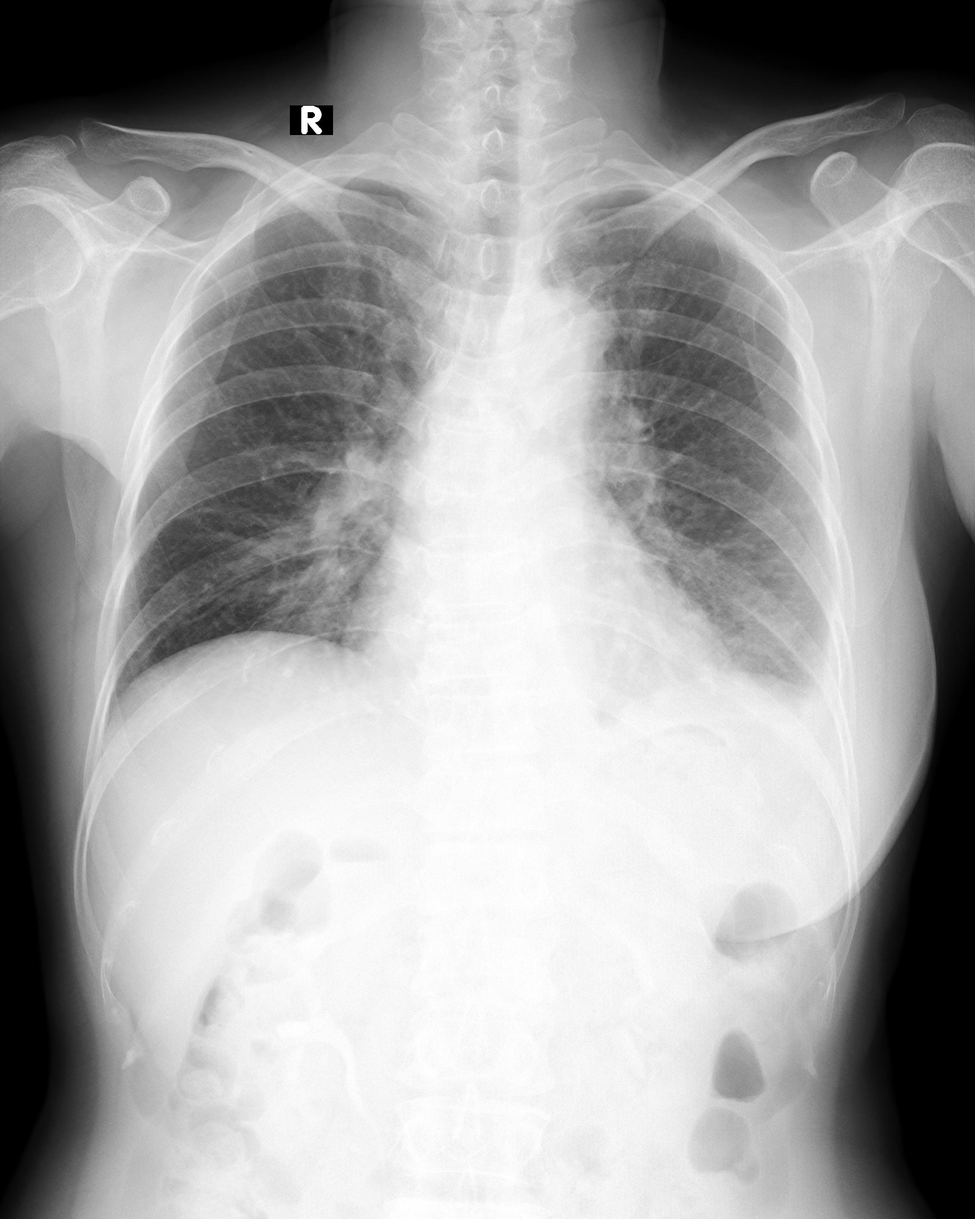Aortic enlargement: (510, 287, 614, 381)
Pleural thickening: (797, 674, 851, 768)
